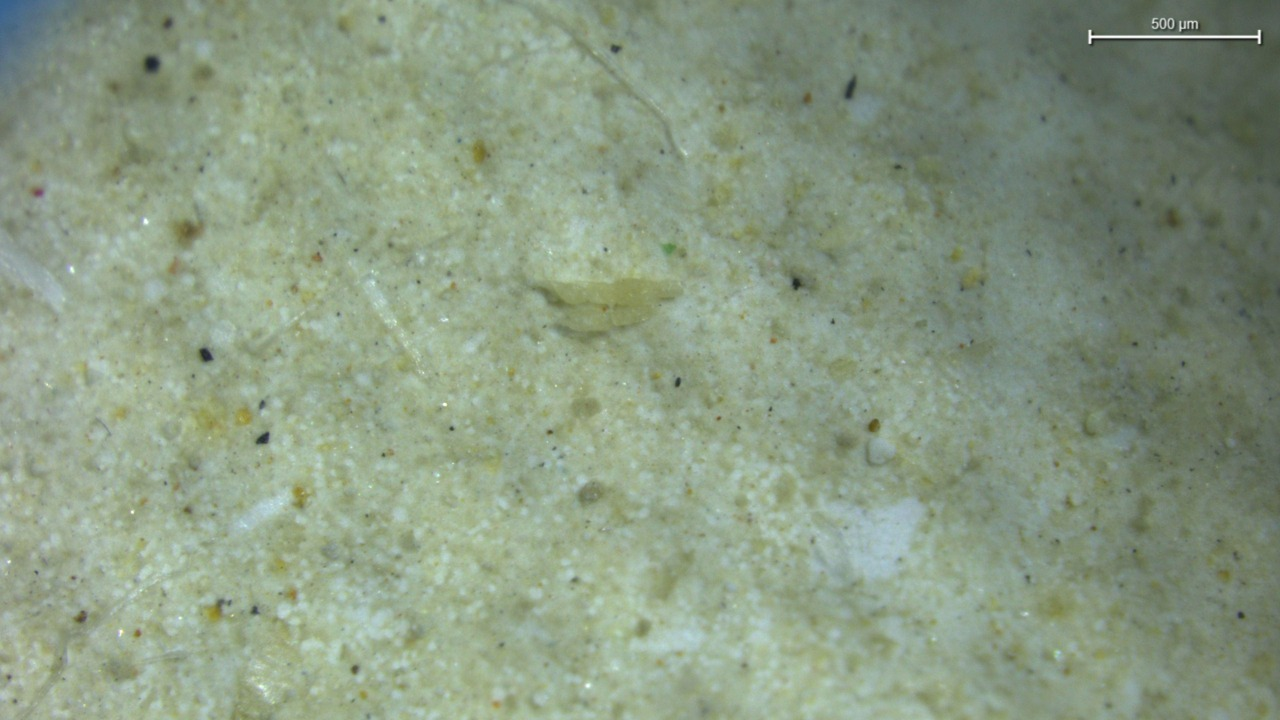microplastic_fragment: (531, 278, 681, 331), (868, 438, 896, 464)
